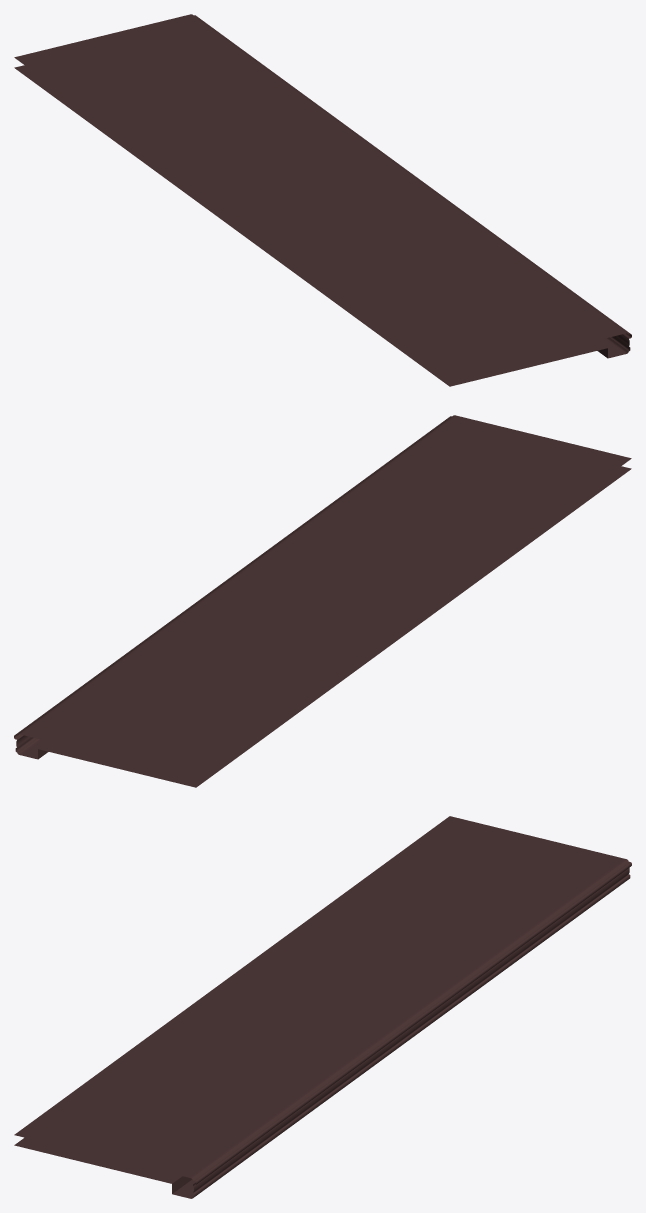
File: LobbySideWalkway.fbx
The picture shows the model from 3 angles, top to bottom: view 1: azimuth 30°, elevation 25°; view 2: azimuth 150°, elevation 25°; view 3: azimuth 330°, elevation 25°; orthographic projection.
Visible parts, largest first — view 1: LobbySideWalkway; view 2: LobbySideWalkway; view 3: LobbySideWalkway.
Boxes of the visible parts, x1,y1,x2,y2 form: LobbySideWalkway: [14, 14, 631, 386]; LobbySideWalkway: [14, 415, 631, 787]; LobbySideWalkway: [14, 816, 631, 1198].
Size of the model in its own units: 4.38 by 0.4749 by 18.15.
